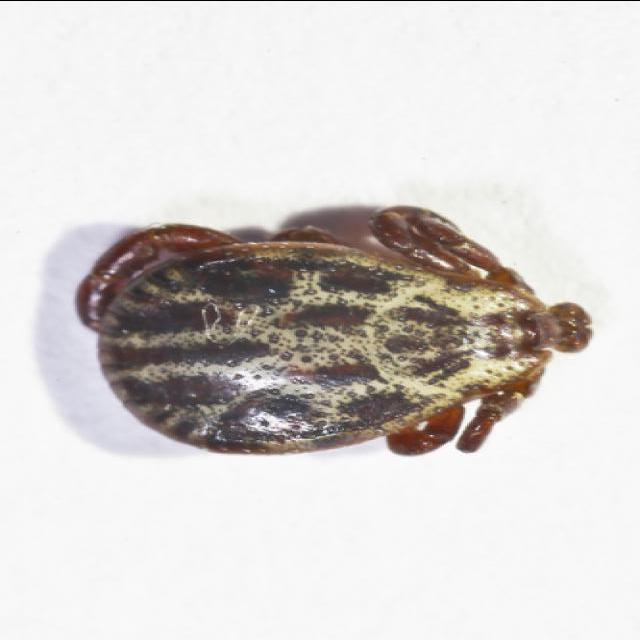Dermacentor Reticulatus-M: (73, 204, 592, 454)
